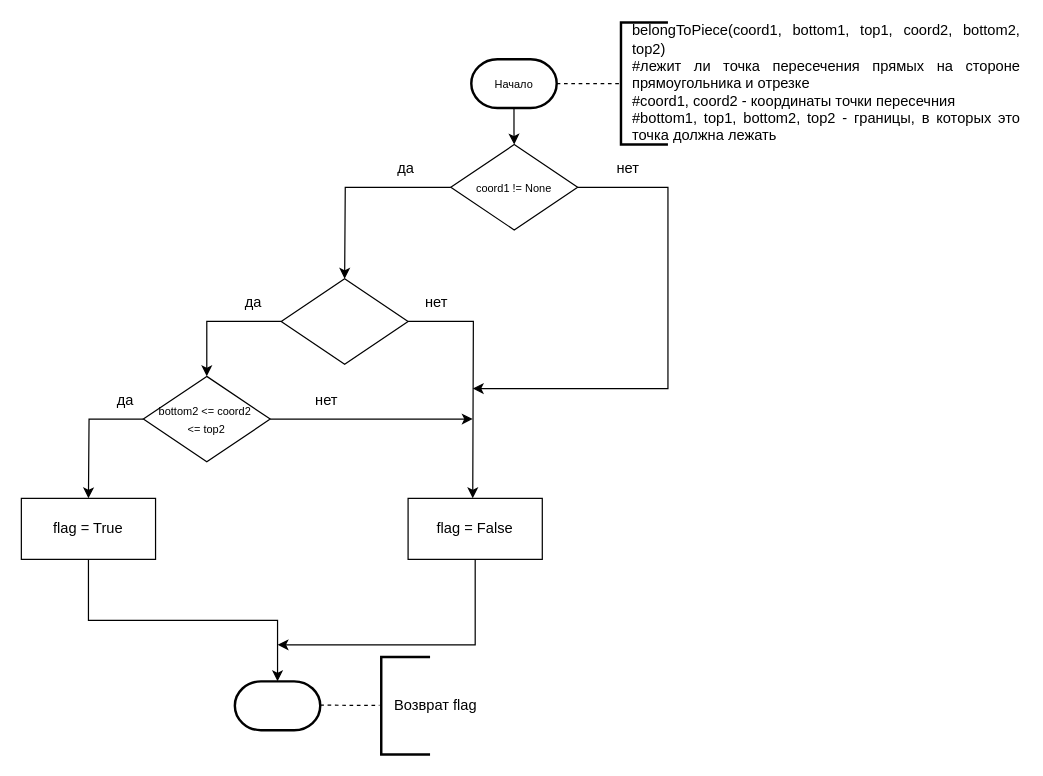
The diagram is 1043 pixels wide and 776 high, and some of its shapes have lost their labels. The shapes that lost their labels are listed below. From the top down, each one's centre as x and y in pixels, then its label:
At [344,321]: "bottom1 <= coord1 <= top1".
At [277,705]: "Конец".
